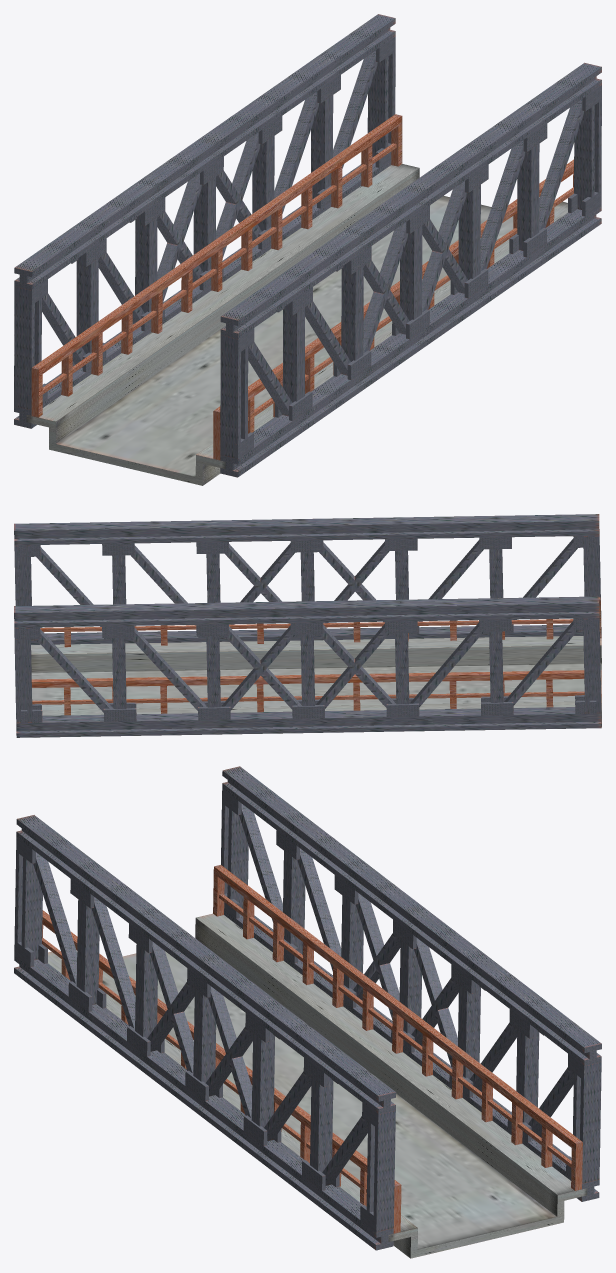
File: GMLID_BUI51891_765_738.dae
3 views of the same model, one above another, from view 1: azimuth 30°, elevation 25°; view 2: azimuth 150°, elevation 25°; view 3: azimuth 270°, elevation 25° (orthographic). The views are drawn at different scales.
Size of the model in its own units: 34.59 by 26.81 by 9.31.
Materials: 1 (1 with a texture image).
